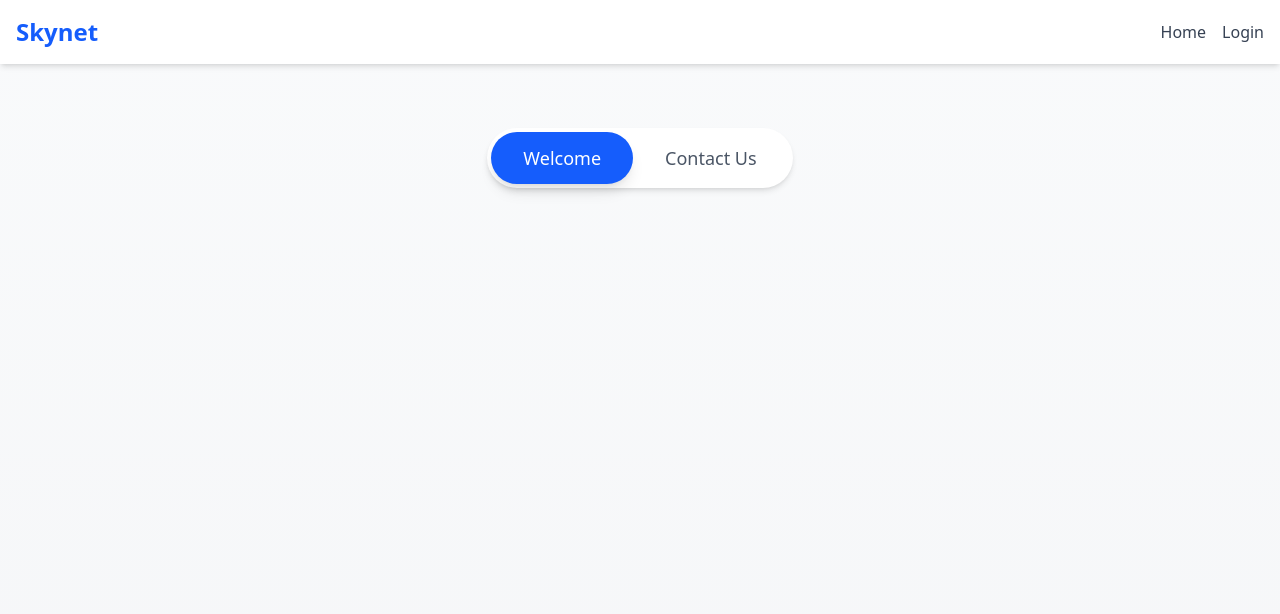
Contact Component › switches from contact back to welcome section when button is clicked
// First, go to contact section
Click the button "Contact Us" at [711, 158], box 633,132 -> 789,184
Wait 300 ms
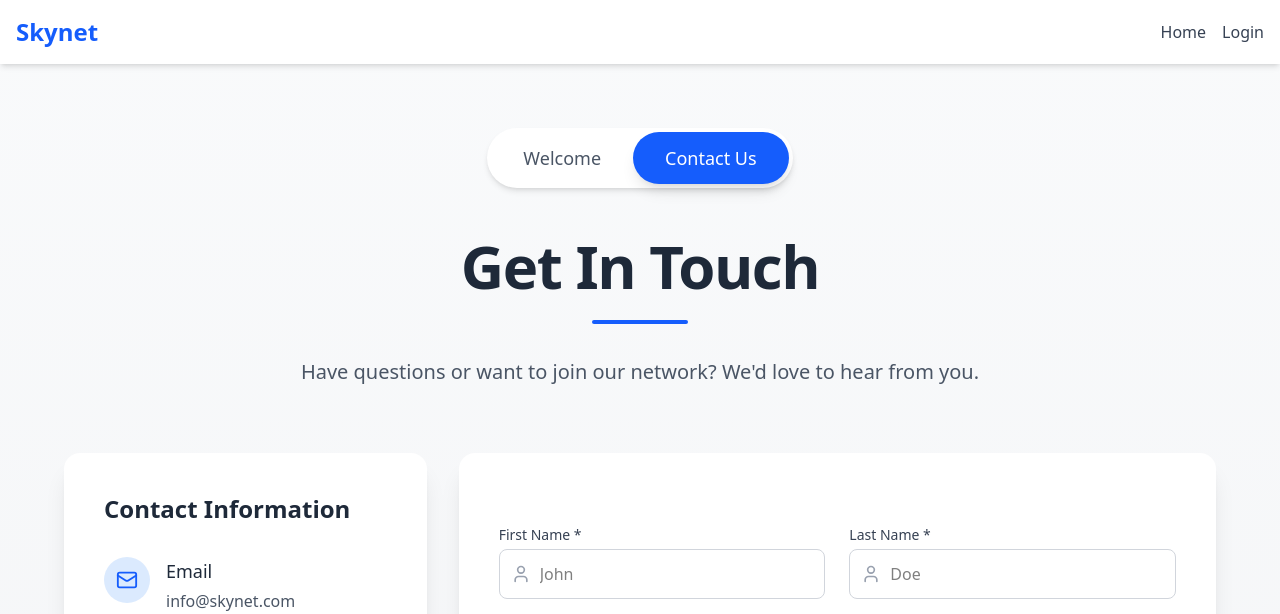
// Then switch back to welcome section
Click the button "Welcome" at [562, 158], box 491,132 -> 633,184
Wait 300 ms
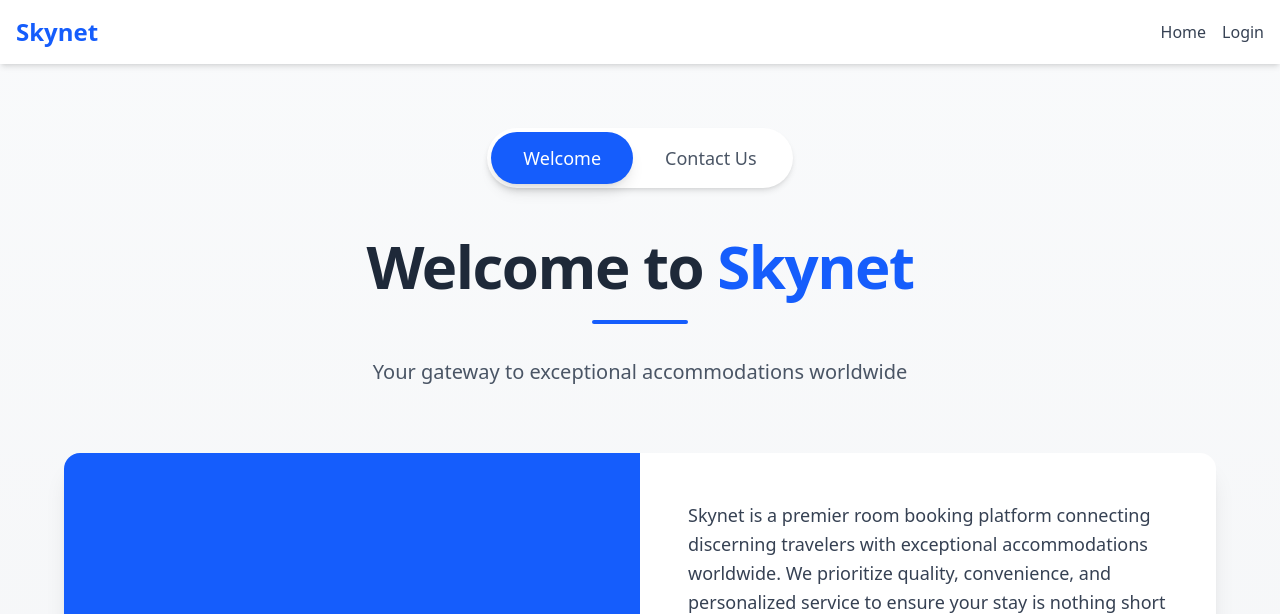
Now the heading "Welcome to Skynet" is shown, box 366,225 -> 914,307
